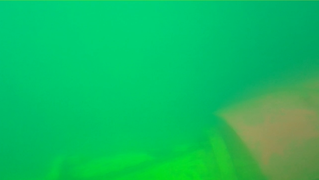leak: (207, 75, 319, 180)
pipe: (1, 122, 269, 180)
